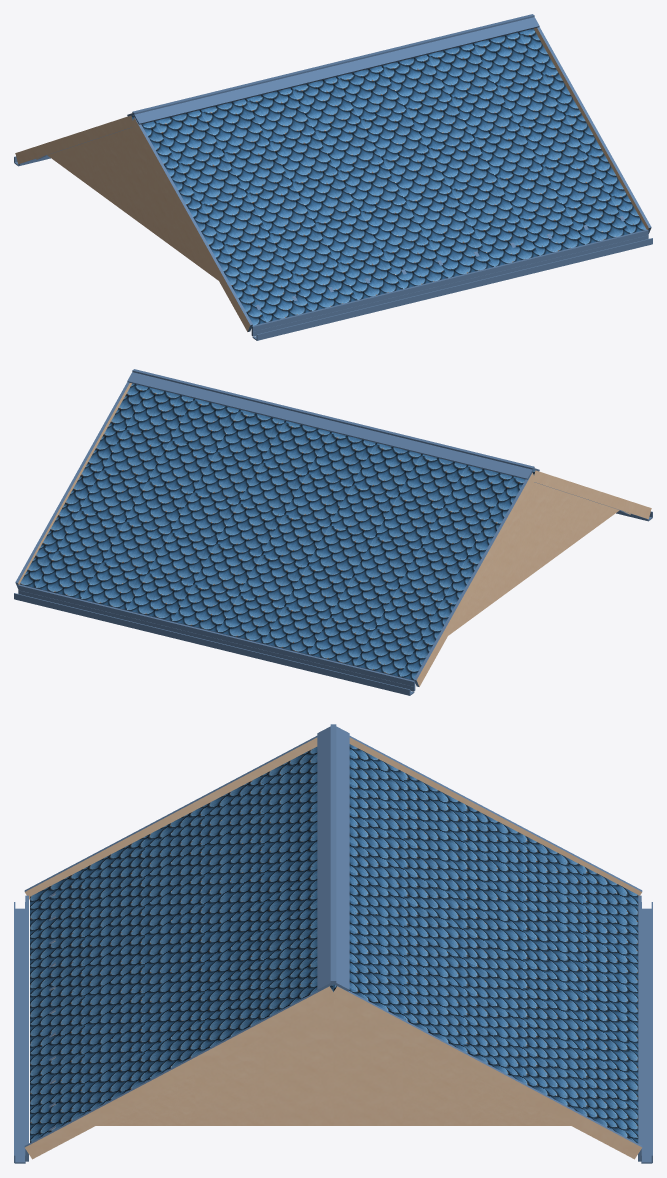
Rendered from Roof_Gable_8x8.fbx.
3 renders of one model, top to bottom at view 1: azimuth 30°, elevation 25°; view 2: azimuth 150°, elevation 25°; view 3: azimuth 270°, elevation 25°, orthographic. The views are drawn at different scales.
Parts seen in each view (by area): view 1: Roof_Gable_8x8; view 2: Roof_Gable_8x8; view 3: Roof_Gable_8x8.
Boxes of the visible parts, x1=… form: Roof_Gable_8x8: x1=14, y1=14, x2=652, y2=340; Roof_Gable_8x8: x1=14, y1=369, x2=652, y2=695; Roof_Gable_8x8: x1=14, y1=724, x2=652, y2=1163.
Size of the model in its own units: 8.82 by 2.95 by 9.26.
Materials: 2 (2 with a texture image).
